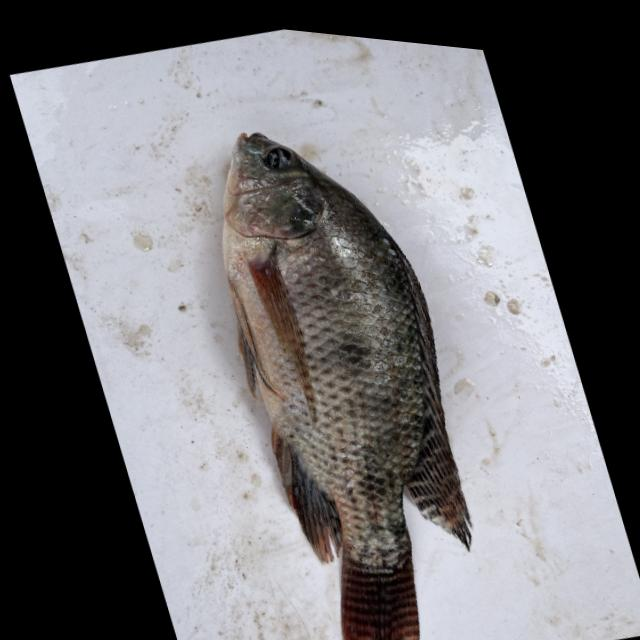Tilapia: (174, 92, 530, 640)
